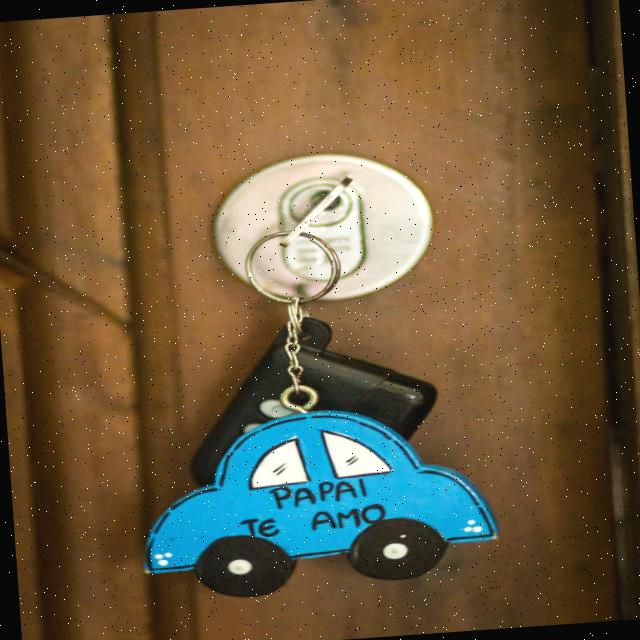Frontdoor keys: (277, 170, 362, 250)
